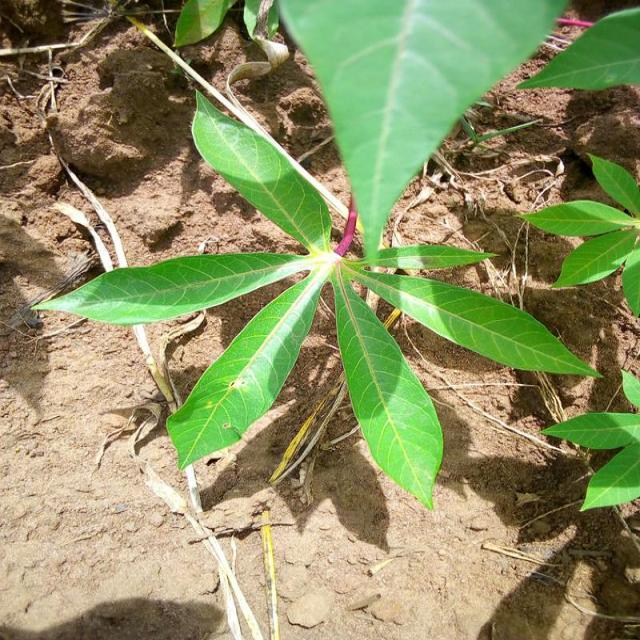cassava leaf: (276, 0, 571, 266), (164, 262, 330, 472), (346, 263, 603, 380), (330, 261, 444, 510), (190, 87, 332, 255), (29, 250, 312, 325), (514, 5, 640, 91)
